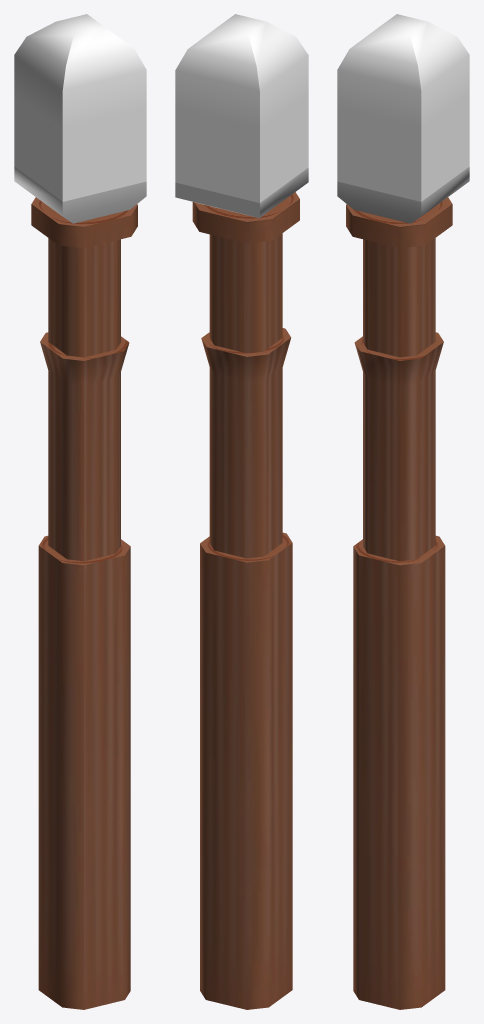
Rendered from Hard Wood Lamp Post Hand.fbx.
The picture shows the model from 3 angles, left to right: view 1: azimuth 30°, elevation 25°; view 2: azimuth 150°, elevation 25°; view 3: azimuth 330°, elevation 25°; orthographic projection.
Parts seen in each view (by area): view 1: FencePost (1), MineLight (4); view 2: FencePost (1), MineLight (4); view 3: FencePost (1), MineLight (4).
Boxes of the visible parts, x1,y1,x2,y2 form: FencePost (1): (31, 197, 137, 1009); MineLight (4): (14, 14, 146, 223); FencePost (1): (192, 192, 299, 1009); MineLight (4): (175, 14, 308, 217); FencePost (1): (346, 197, 452, 1009); MineLight (4): (337, 14, 469, 223).
Size of the model in its own units: 0.2049 by 2.25 by 0.2172.
